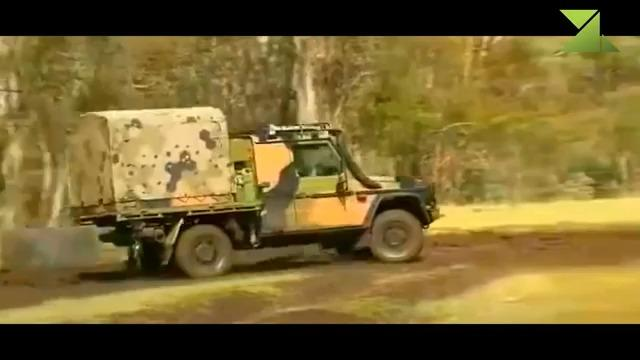MIL_HMMWV: (67, 106, 439, 276)
